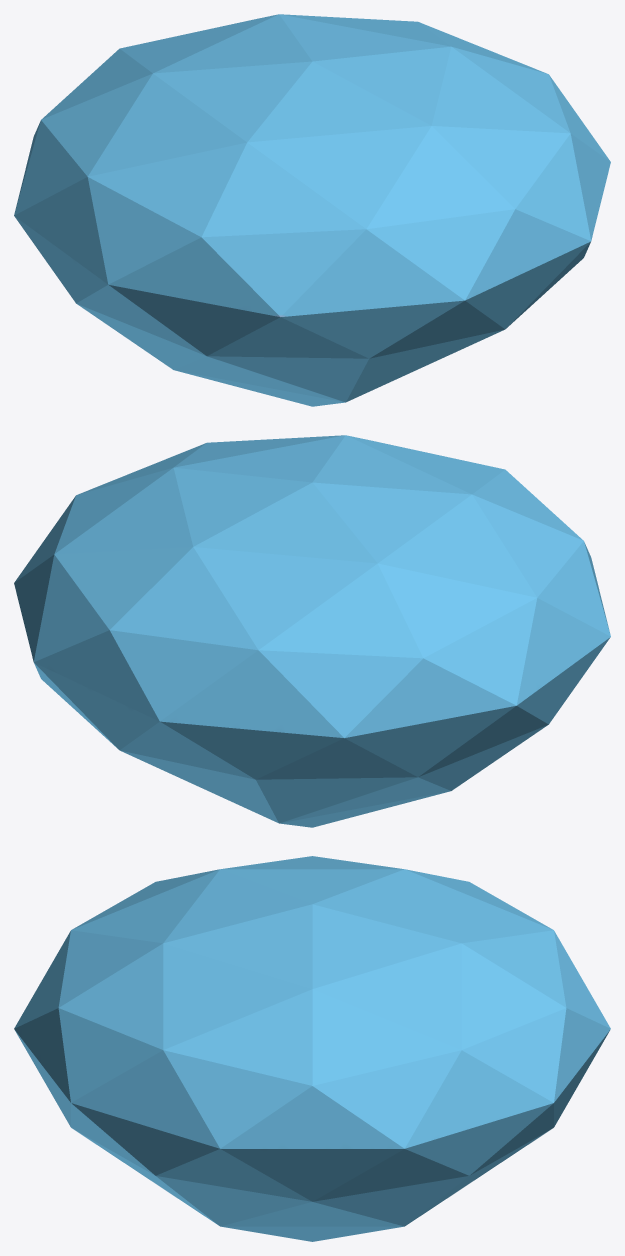
File: Diamond.fbx
3 renders of one model, top to bottom at view 1: azimuth 30°, elevation 25°; view 2: azimuth 150°, elevation 25°; view 3: azimuth 270°, elevation 25°, orthographic. The views are drawn at different scales.
Parts seen in each view (by area): view 1: Icosphere; view 2: Icosphere; view 3: Icosphere.
Part boxes in pixels (box(x1,y1,x2,y2)): Icosphere: box(14, 14, 610, 406); Icosphere: box(14, 435, 610, 827); Icosphere: box(14, 856, 610, 1241).
Size of the model in its own units: 190 by 125 by 200.
Materials: 1 (1 with a texture image).
